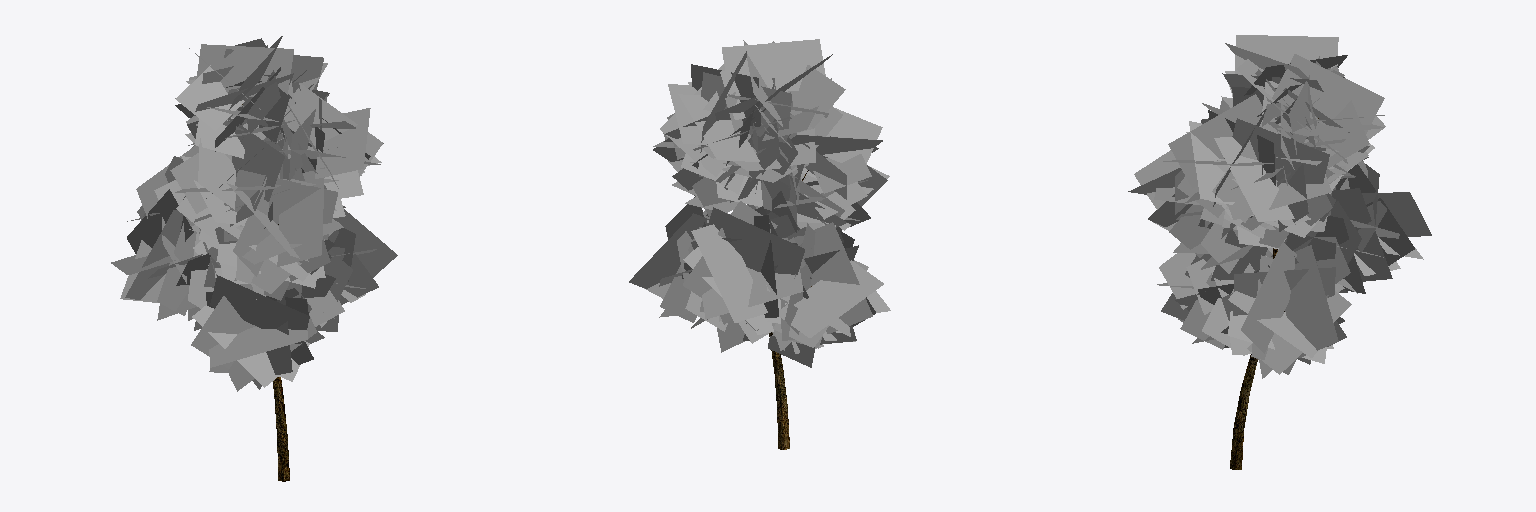
3 renders of one model, left to right at view 1: azimuth 30°, elevation 25°; view 2: azimuth 150°, elevation 25°; view 3: azimuth 270°, elevation 25°, orthographic.
Visible parts, largest first — view 1: leaves, tree; view 2: leaves, tree; view 3: leaves, tree.
Part boxes in pixels (left/top/right/bottom): leaves: left=111, top=36, right=397, bottom=391; tree: left=242, top=104, right=289, bottom=481; leaves: left=629, top=39, right=890, bottom=367; tree: left=769, top=170, right=811, bottom=449; leaves: left=1128, top=35, right=1431, bottom=378; tree: left=1230, top=118, right=1318, bottom=469.
Size of the model in its own units: 5.5 by 8.98 by 5.94.
2 materials, 1 textured.